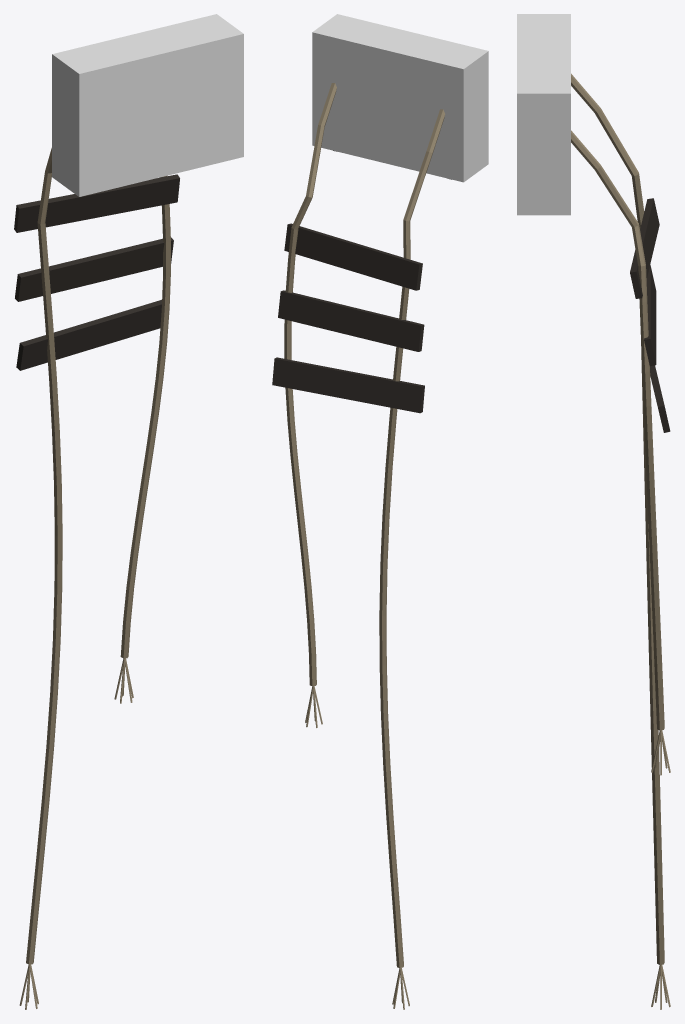
File: dress_cliff_rope_remnant.glb
3 views of the same model, side by side, from view 1: azimuth 30°, elevation 25°; view 2: azimuth 150°, elevation 25°; view 3: azimuth 270°, elevation 25° (orthographic). The views are drawn at different scales.
Parts seen in each view (by area): view 1: col_block_rope_posts, dress_cliff_rope_remnant; view 2: dress_cliff_rope_remnant, col_block_rope_posts; view 3: dress_cliff_rope_remnant, col_block_rope_posts.
Boxes of the visible parts, x1,y1,x2,y2 form: col_block_rope_posts: (52,14,243,196); dress_cliff_rope_remnant: (14,148,179,1009); dress_cliff_rope_remnant: (272,83,451,1009); col_block_rope_posts: (312,14,488,182); dress_cliff_rope_remnant: (571,73,670,1009); col_block_rope_posts: (517,14,570,215).
Bounding box in the file's own units: 1.4 × 8.05 × 1.14.
Materials: 2 (1 with a texture image).
